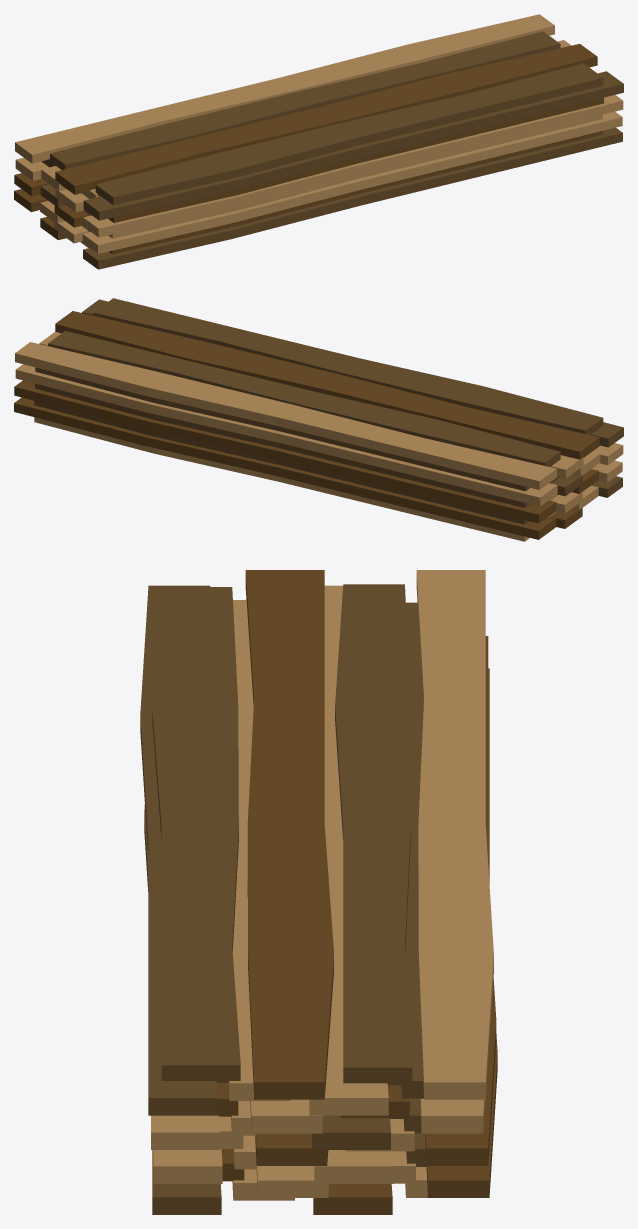
The model's file is boardstack.fbx.
3 views of the same model, one above another, from view 1: azimuth 30°, elevation 25°; view 2: azimuth 150°, elevation 25°; view 3: azimuth 270°, elevation 25° (orthographic). The views are drawn at different scales.
Visible parts, largest first — view 1: plankstack; view 2: plankstack; view 3: plankstack.
Boxes of the visible parts, <box> form: plankstack: <box>14,14,623,269</box>; plankstack: <box>14,298,623,541</box>; plankstack: <box>140,570,497,1214</box>.
Bounding box in the file's own units: 772 × 93.26 × 227.
